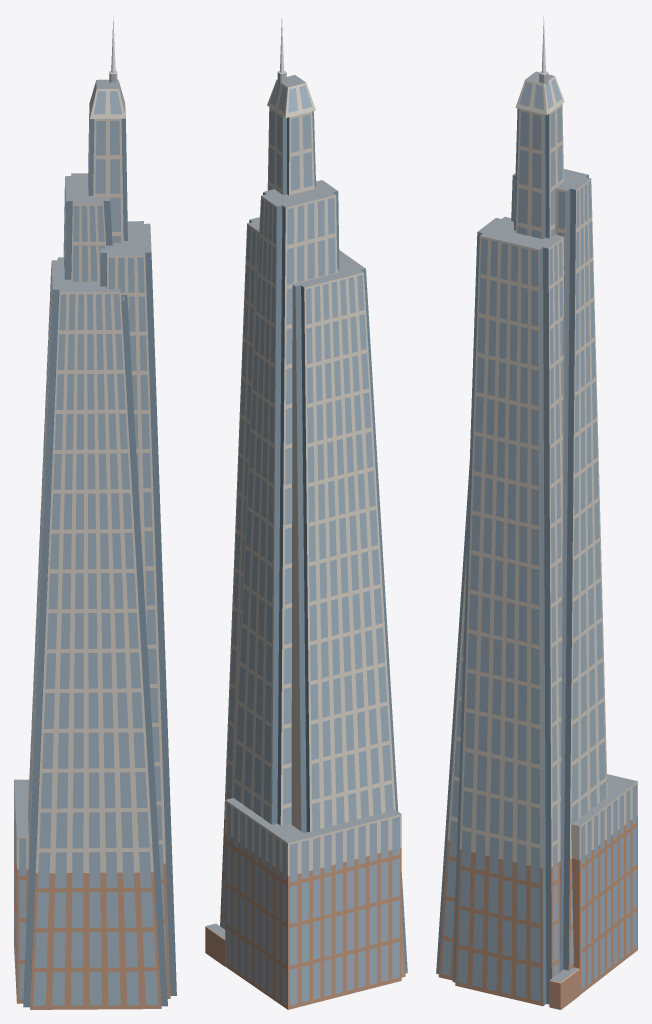
The model's file is detail.glb.
3 renders of one model, left to right at view 1: azimuth 30°, elevation 25°; view 2: azimuth 150°, elevation 25°; view 3: azimuth 270°, elevation 25°, orthographic.
Parts seen in each view (by area): view 1: one-vanderbilt; view 2: one-vanderbilt; view 3: one-vanderbilt.
Part boxes in pixels (x1=…): one-vanderbilt: x1=14, y1=16, x2=176, y2=1009; one-vanderbilt: x1=205, y1=18, x2=407, y2=1009; one-vanderbilt: x1=436, y1=16, x2=637, y2=1009.
Size of the model in its own units: 83.01 by 427 by 81.16.
